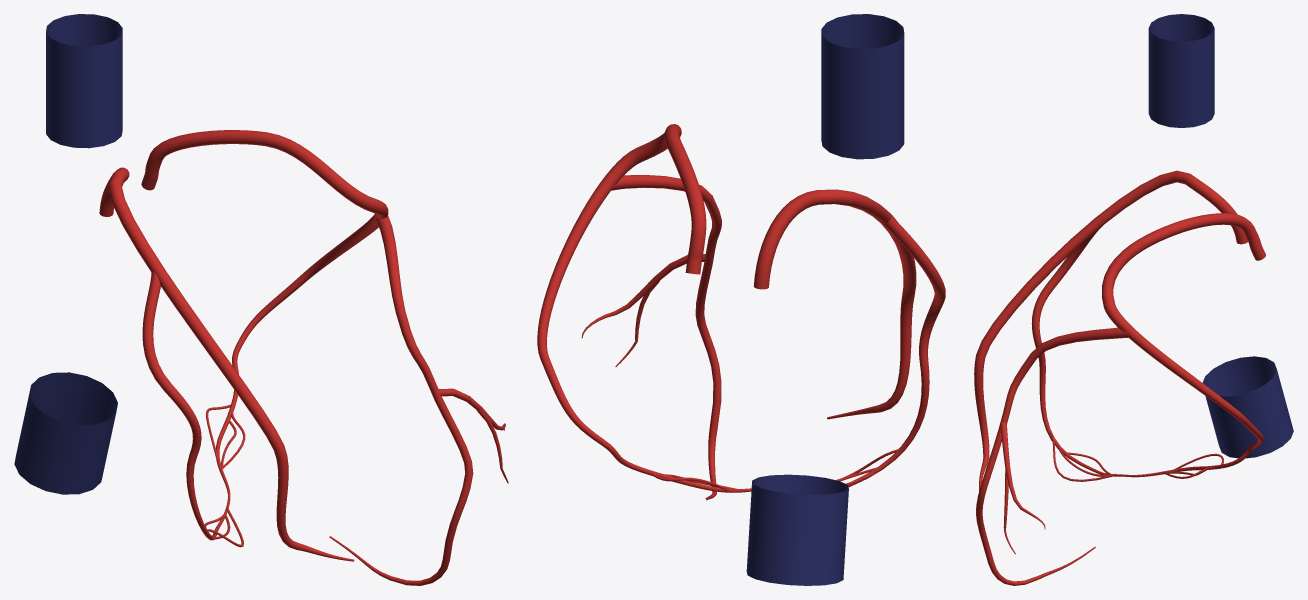
Rendered from 3dheart.gltf.
3 renders of one model, left to right at view 1: azimuth 30°, elevation 25°; view 2: azimuth 150°, elevation 25°; view 3: azimuth 270°, elevation 25°, orthographic. The views are drawn at different scales.
Parts seen in each view (by area): view 1: Abottom, Atop, Rmain, Lmain, Rbig; view 2: Atop, Abottom, Rmain, Lmain, Rbig, Rsmall1; view 3: Atop, Rmain, Abottom, Lmain, Rbig, Rsmall1.
Boxes of the visible parts, left/top/right/bottom form: Abottom: left=14, top=372, right=117, bottom=494; Atop: left=46, top=14, right=122, bottom=148; Rmain: left=141, top=130, right=388, bottom=540; Lmain: left=99, top=167, right=354, bottom=561; Rbig: left=329, top=216, right=473, bottom=585; Atop: left=821, top=14, right=904, bottom=159; Abottom: left=746, top=474, right=848, bottom=585; Rmain: left=537, top=124, right=945, bottom=492; Lmain: left=754, top=189, right=916, bottom=419; Rbig: left=611, top=175, right=721, bottom=500; Rsmall1: left=581, top=254, right=706, bottom=338; Atop: left=1148, top=14, right=1214, bottom=127; Rmain: left=1031, top=213, right=1265, bottom=477; Abottom: left=1202, top=356, right=1293, bottom=458; Lmain: left=974, top=170, right=1247, bottom=491; Rbig: left=976, top=327, right=1128, bottom=585; Rsmall1: left=1000, top=422, right=1045, bottom=529.
Bounding box in the file's own units: 2.23 × 3.1 × 1.94.
